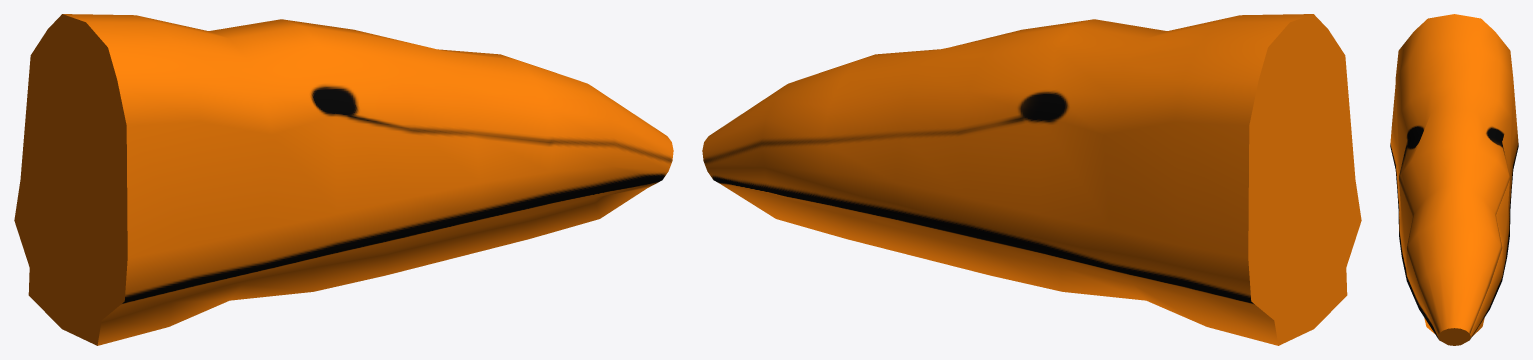
File: Beak.fbx
The picture shows the model from 3 angles, left to right: view 1: azimuth 30°, elevation 25°; view 2: azimuth 150°, elevation 25°; view 3: azimuth 270°, elevation 25°; orthographic projection. The views are drawn at different scales.
Visible parts, largest first — view 1: pCylinder1; view 2: pCylinder1; view 3: pCylinder1.
Part boxes in pixels (box(x1,y1,x2,y2)): pCylinder1: box(14, 14, 673, 345); pCylinder1: box(702, 14, 1361, 345); pCylinder1: box(1390, 14, 1518, 345).
Size of the model in its own units: 2.07 by 0.9921 by 0.6546.
Materials: 1 (1 with a texture image).
